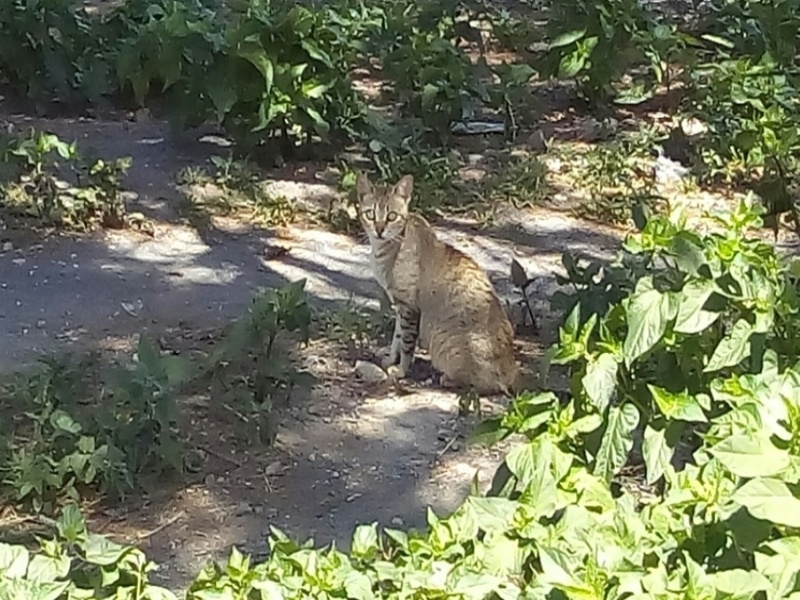cat: (353, 167, 529, 397)
